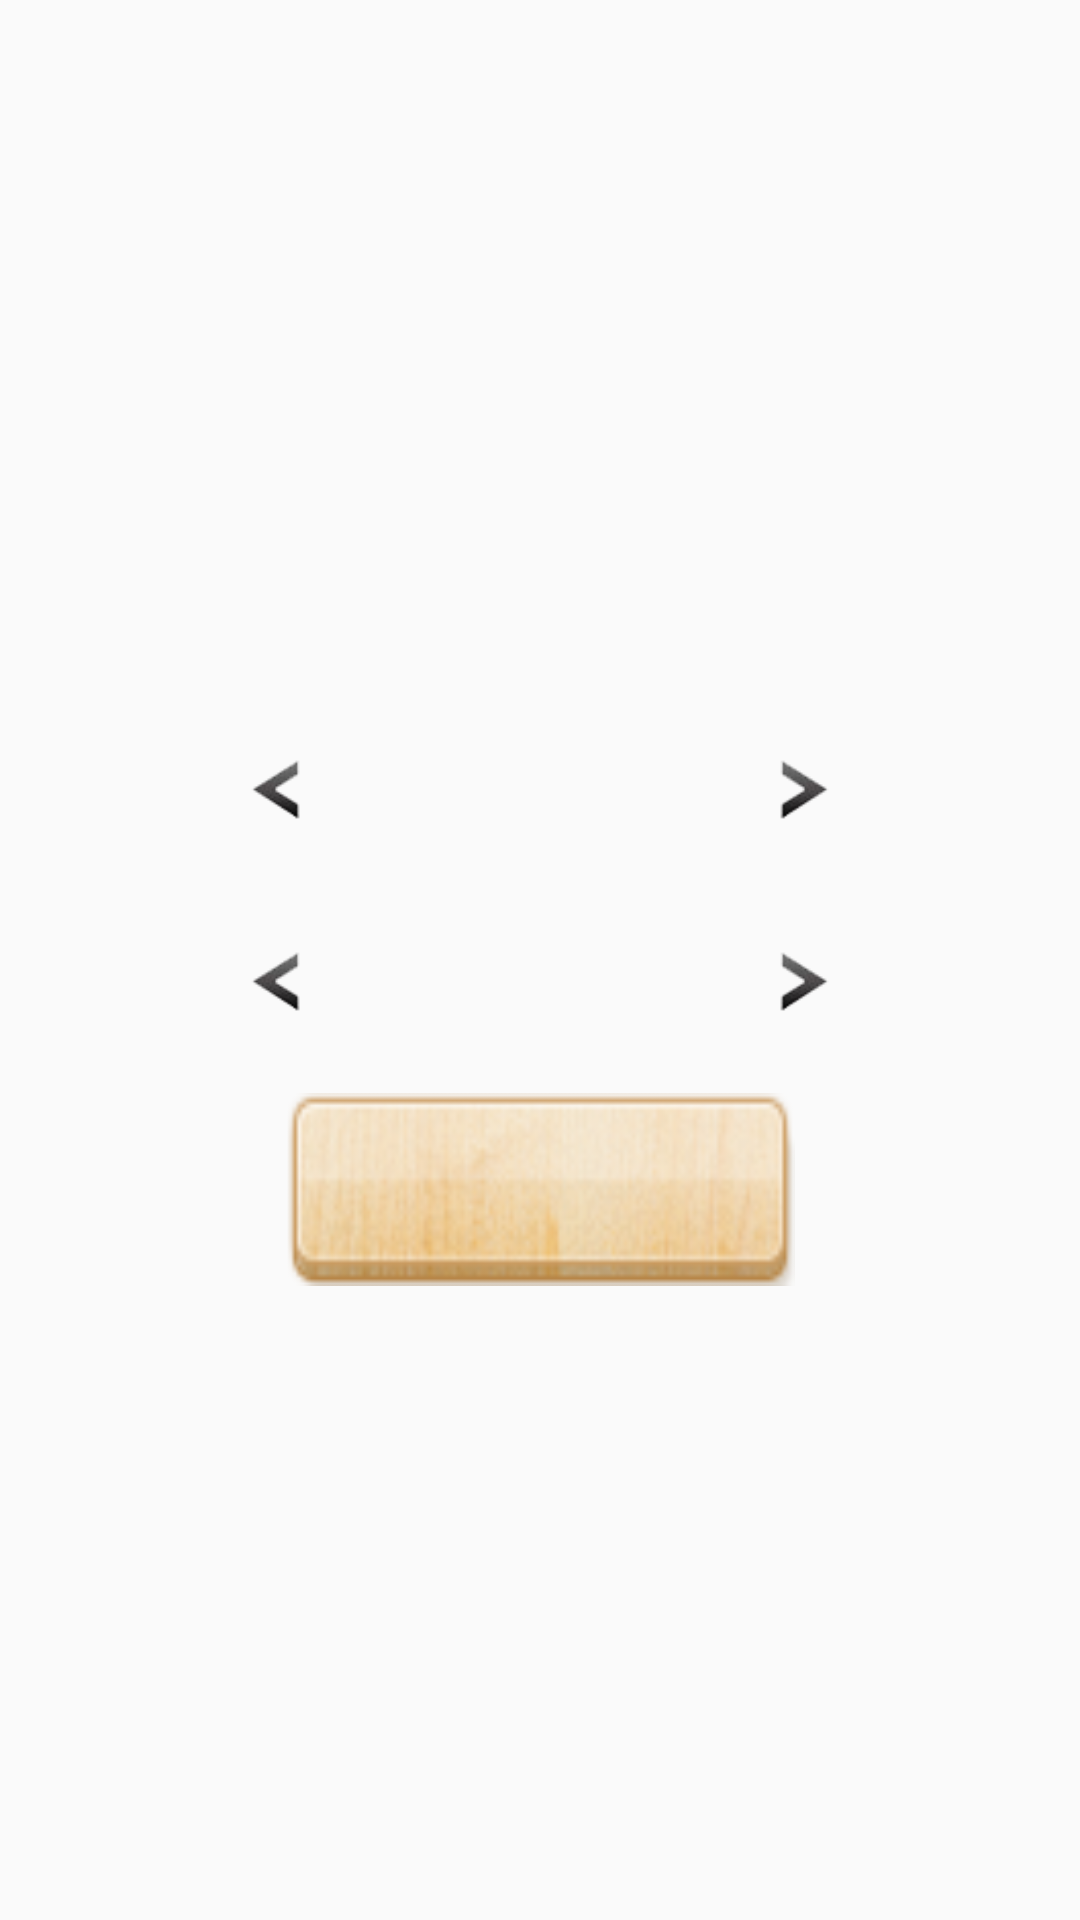

Screen size 1080*1920. Icon name, then its box in pixels as (x1,y1,x2,y2):
arrow: (253,761,300,819), (780,761,827,819), (253,953,300,1011), (780,953,827,1011)
